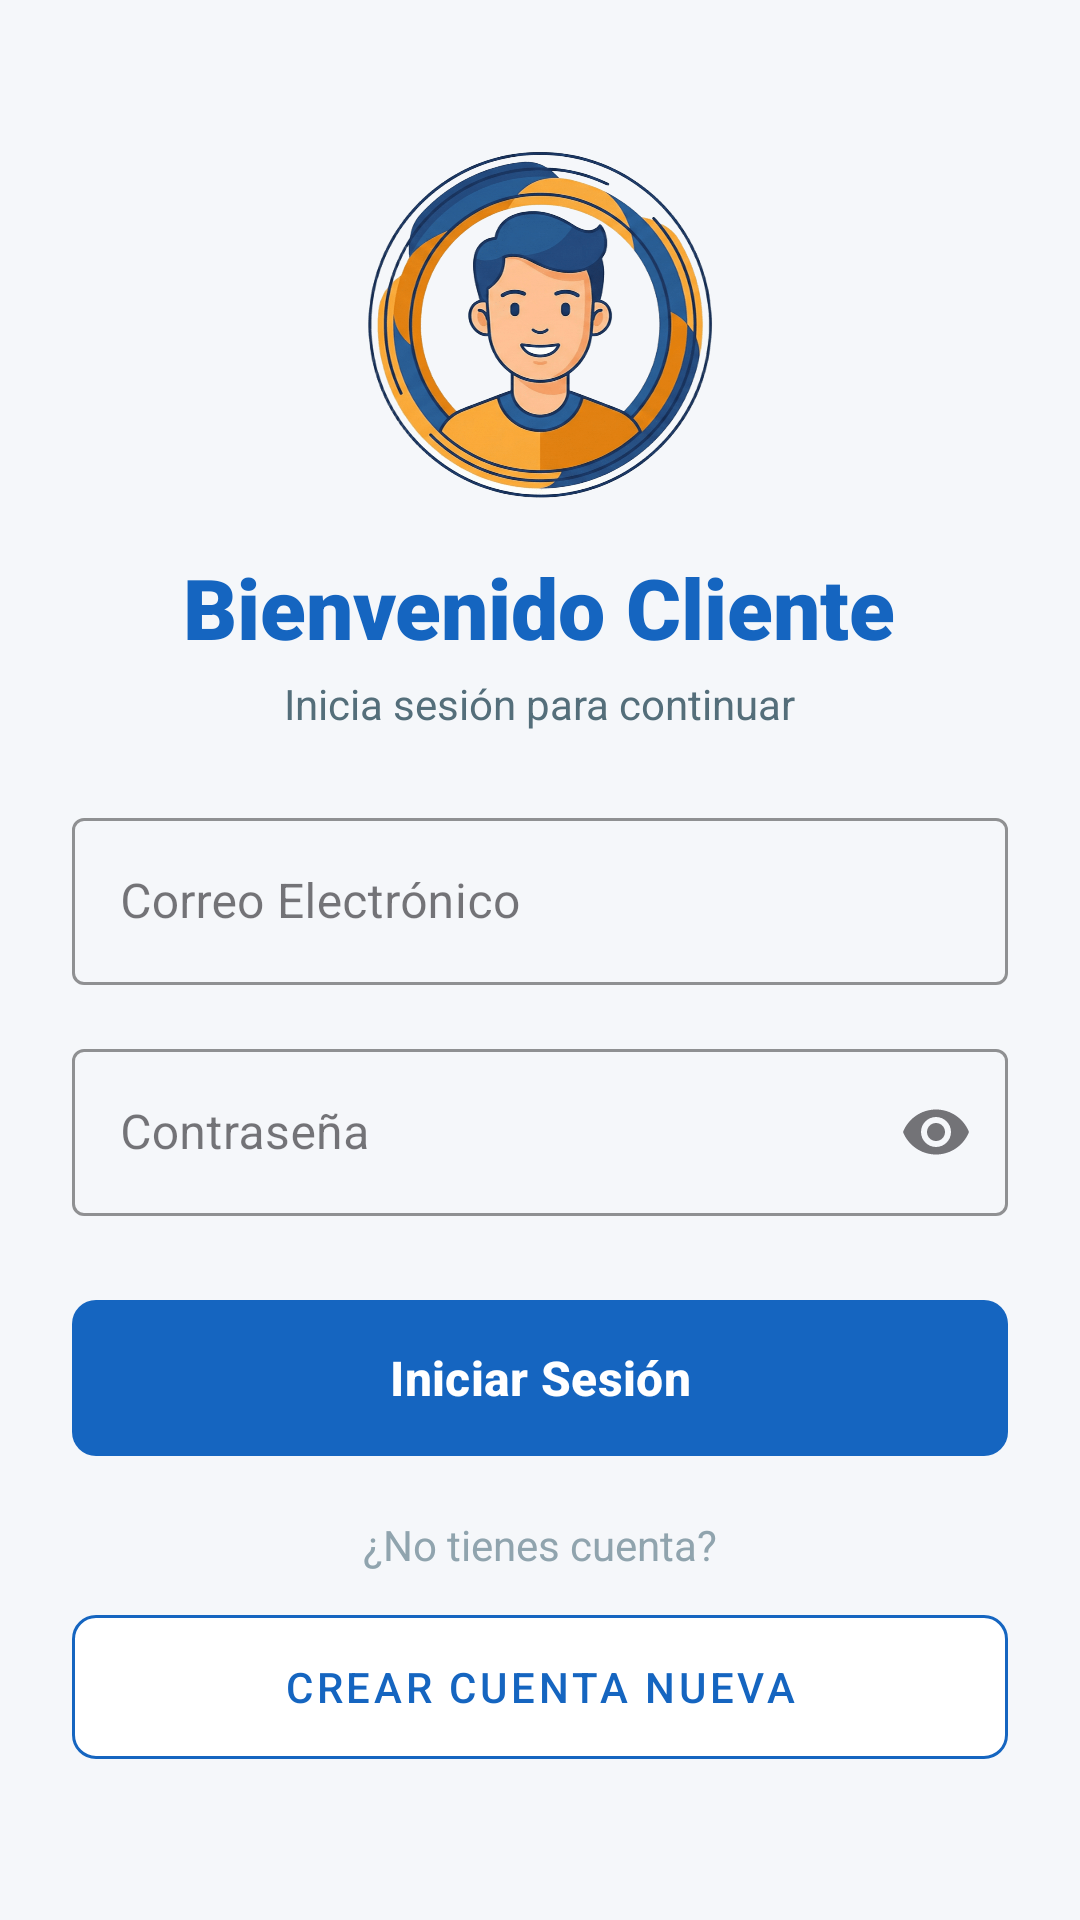

Icons on this 1080 x 1920 Android screen, each with the point to tap as point (x, y):
login cliente: point (540, 325)
